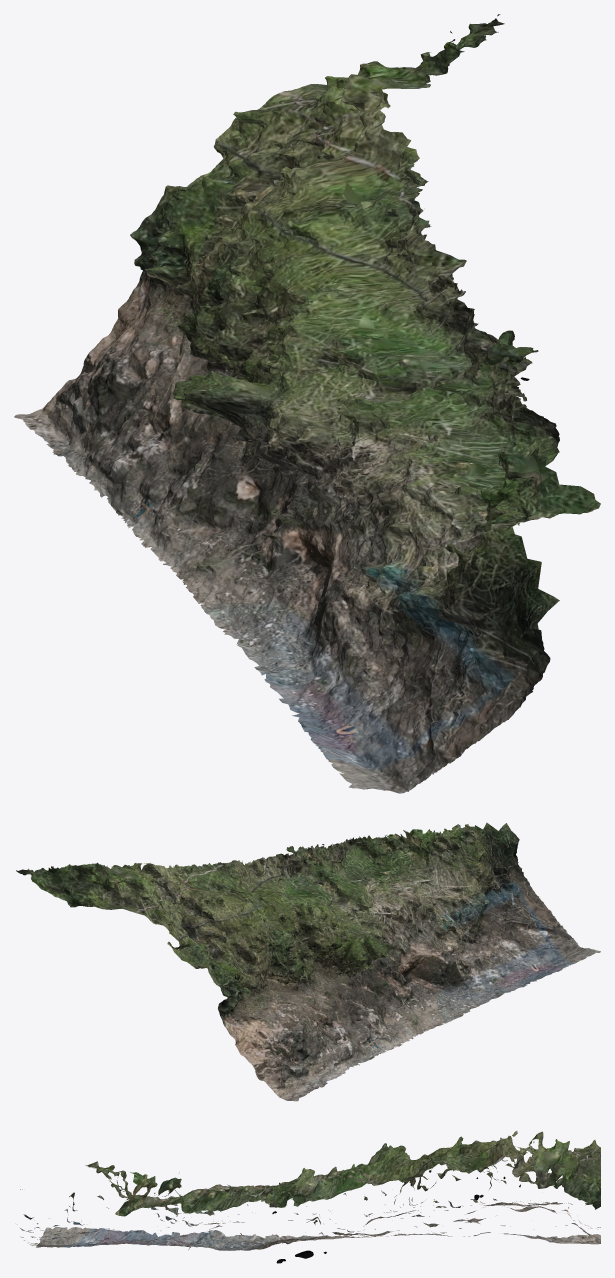
The picture shows the model from 3 angles, top to bottom: view 1: azimuth 30°, elevation 25°; view 2: azimuth 150°, elevation 25°; view 3: azimuth 270°, elevation 25°; orthographic projection. The views are drawn at different scales.
Size of the model in its own units: 6.92 by 3.95 by 9.41.
Materials: 2 (2 with a texture image).
